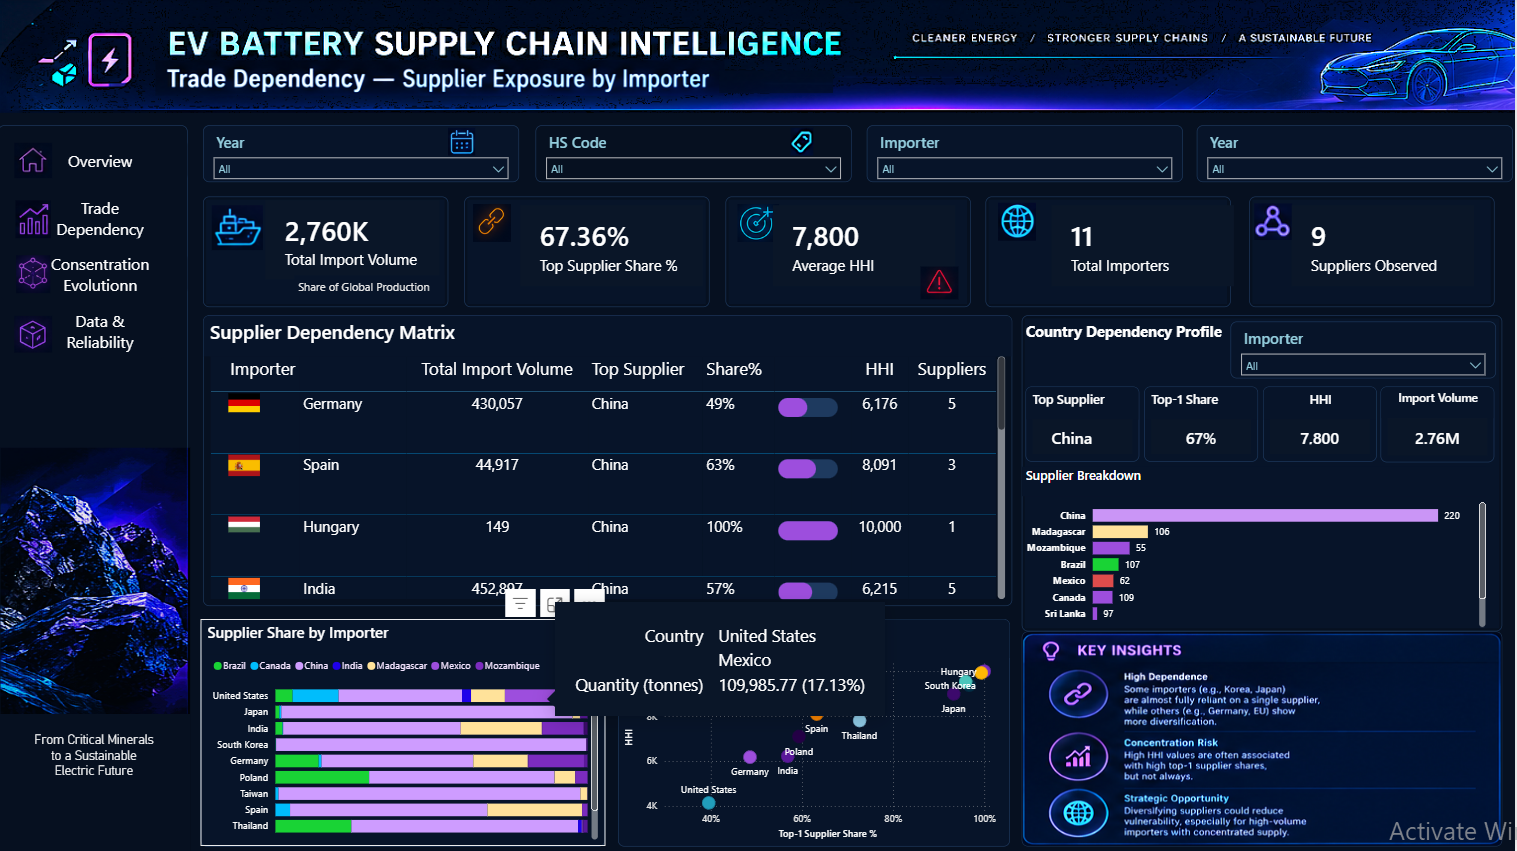

What the dashboard file says about the page in this screenshot:
{"tool":"powerbi","page":{"name":"Trade Dependency ","canvas":[1920,1080],"ordinal":1},"visuals":[{"type":"shape","box":[0,168,240,72],"z":0,"group":"g2"},{"type":"shape","box":[24,240,192,72],"z":0,"group":"g3"},{"type":"shape","box":[590,250,310,140],"z":0},{"type":"shape","box":[920,250,310,140],"z":0,"group":"g1"},{"type":"shape","box":[0,312,240,72],"z":0,"group":"g4"},{"type":"shape","box":[24,384,192,72],"z":0,"group":"g5"},{"type":"actionButton","box":[34,168,192,72],"z":1000,"group":"g2"},{"type":"actionButton","box":[51.2,240,153.6,72],"z":1000,"group":"g3"},{"type":"shape","box":[1250,250,310,140],"z":1000},{"type":"actionButton","box":[34,312,192,72],"z":1000,"group":"g4"},{"type":"actionButton","box":[51.2,384,153.6,72],"z":1000,"group":"g5"},{"type":"shape","box":[1584,250,310,140],"z":2000},{"type":"image","box":[929,260,64,48],"z":2000,"group":"g1"},{"type":"shape","box":[260,250,310,140],"z":3000},{"type":"image","box":[0,0,1920,144],"z":4000},{"type":"cardVisual","fields":{"Data":["ev v_supplier_share.Top Supplier Share %"]},"box":[656,256,240,112],"z":5000},{"type":"shape","title":"SIDEBAR","box":[0,160,240,910],"z":6000},{"type":"cardVisual","fields":{"Data":["ev v_country_dependency.Total Import Volume"]},"box":[333,250,230,110],"z":7000},{"type":"image","box":[1589,258,48,48],"z":8000},{"type":"textbox","box":[375,350,190,35],"z":9000},{"type":"image","box":[3,568,240,512],"z":10000},{"type":"image","box":[1257,258,64,48],"z":11000},{"type":"image","box":[593,260,64,48],"z":12000},{"type":"textbox","box":[0,904,243,176],"z":13000},{"type":"group","id":"g1","title":"KPI_3_Countries","box":[920,250,310,140],"z":14000},{"type":"slicer","title":"YEAR","fields":{"Values":["ev dim_date.year"]},"box":[260,160,400,72],"z":15000},{"type":"image","box":[570,163,35,35],"z":16000},{"type":"slicer","fields":{"Values":["ev v_country_dependency.hs_code"]},"box":[680,160,400,72],"z":17000},{"type":"image","box":[200,76,720,48],"z":18000},{"type":"image","box":[912,80,144,48],"z":19000},{"type":"slicer","title":"YEAR","fields":{"Values":["ev dim_country.country_name"]},"box":[1100,160,400,72],"z":20000},{"type":"slicer","title":"YEAR","fields":{"Values":["ev dim_date.year"]},"box":[1517,160,400,72],"z":21000},{"type":"image","box":[1000,163,35,35],"z":22000},{"type":"image","box":[270,260,65,60],"z":23000},{"type":"cardVisual","fields":{"Data":["ev v_country_dependency.Avg HHI"]},"box":[976,256,240,112],"z":24000},{"type":"image","box":[1168,336,48,48],"z":25000},{"type":"cardVisual","fields":{"Data":["ev v_country_dependency.Total Importers"]},"box":[1328,256,240,112],"z":26000},{"type":"cardVisual","fields":{"Data":["ev v_country_dependency.Suppliers Observed"]},"box":[1632,256,240,112],"z":27000},{"type":"tableEx","title":"     Supplier Dependency Matrix","fields":{"Values":["ev dim_country.flag_url","ev dim_country.country_name","ev v_country_dependency.Total Import Volume","ev v_supplier_share.Top Supplier","ev v_supplier_share.Top Supplier Share %","ev v_supplier_share.Bar SVG","ev v_country_dependency.Avg HHI","ev v_country_dependency.Avg Supplier Count"]},"box":[260,400,1024,368],"z":28000},{"type":"shape","box":[1296,400,608,400],"z":29000},{"type":"slicer","title":"YEAR","fields":{"Values":["ev dim_country.country_name"]},"box":[1560,408,336,72],"z":30000},{"type":"textbox","box":[1296,403,288,35],"z":31000},{"type":"cardVisual","title":"Top Supplier","fields":{"Data":["ev v_supplier_share.Top Supplier"]},"box":[1300,490,144,95],"z":32000},{"type":"cardVisual","title":"Top-1 Share","fields":{"Data":["ev v_supplier_share.Top Supplier Share %"]},"box":[1450,490,144,95],"z":33000},{"type":"group","id":"g2","title":"Group 1","box":[0,168,240,72],"z":34000,"group":"g6"},{"type":"cardVisual","title":"HHI","fields":{"Data":["ev v_country_dependency.Avg HHI"]},"box":[1600,490,144,95],"z":34000},{"type":"group","id":"g3","title":"Group 1","box":[24,240,192,72],"z":35000,"group":"g7"},{"type":"cardVisual","title":"Import Volume","fields":{"Data":["ev v_country_dependency.Total Import Volume"]},"box":[1750,490,144,96],"z":35000},{"type":"group","id":"g4","title":"Group 1","box":[0,312,240,72],"z":36000,"group":"g8"},{"type":"clusteredBarChart","title":"Supplier Breakdown","fields":{"Category":["ev v_supplier_share.exporter_name"],"Y":["ev v_country_dependency.Individual Supplier Share %"]},"box":[1296,592,592,208],"z":36000},{"type":"group","id":"g5","title":"Group 1","box":[24,384,192,72],"z":37000,"group":"g9"},{"type":"hundredPercentStackedBarChart","title":"Supplier Share by Importer","fields":{"Category":["ev dim_country.country_name"],"Series":["ev v_supplier_share.exporter_name"],"Y":["Sum(ev v_supplier_share.qty_t)"]},"box":[256,784,512,288],"z":37000},{"type":"image","box":[20,180,48,48],"z":37500,"group":"g6"},{"type":"image","box":[20,255,48,48],"z":37501,"group":"g7"},{"type":"image","box":[20,325,48,48],"z":37502,"group":"g8"},{"type":"image","box":[20,400,48,48],"z":37503,"group":"g9"},{"type":"scatterChart","title":"HHI vs Top-1 Share","fields":{"Category":["ev dim_country.country_name"],"X":["ev v_supplier_share.Top Supplier Share %"],"Y":["Avg(ev v_country_dependency.hhi)"]},"box":[784,784,496,288],"z":38000},{"type":"image","box":[1296,800,608,272],"z":39000},{"type":"group","id":"g6","title":"Group 2","box":[0,168,240,72],"z":39001},{"type":"group","id":"g7","title":"Group 3","box":[20,240,196,72],"z":39002},{"type":"group","id":"g8","title":"Group 4","box":[0,312,240,72],"z":39003},{"type":"group","id":"g9","title":"Group 5","box":[20,384,196,72],"z":39004}]}

Visuals, with their boxes on the page's 1920x1080 design canvas (x1, y1, x2, y2). These are canvas units, not pixel positions in the 1517x851 screenshot, which may show the page scaled, cropped or inside an application window:
shape: (0, 168, 240, 240)
shape: (24, 240, 216, 312)
shape: (590, 250, 900, 390)
shape: (920, 250, 1230, 390)
shape: (0, 312, 240, 384)
shape: (24, 384, 216, 456)
actionButton: (34, 168, 226, 240)
actionButton: (51, 240, 205, 312)
shape: (1250, 250, 1560, 390)
actionButton: (34, 312, 226, 384)
actionButton: (51, 384, 205, 456)
shape: (1584, 250, 1894, 390)
image: (929, 260, 993, 308)
shape: (260, 250, 570, 390)
image: (0, 0, 1920, 144)
cardVisual - ev v_supplier_share.Top Supplier Share %: (656, 256, 896, 368)
"SIDEBAR" shape: (0, 160, 240, 1070)
cardVisual - ev v_country_dependency.Total Import Volume: (333, 250, 563, 360)
image: (1589, 258, 1637, 306)
textbox: (375, 350, 565, 385)
image: (3, 568, 243, 1080)
image: (1257, 258, 1321, 306)
image: (593, 260, 657, 308)
textbox: (0, 904, 243, 1080)
"KPI_3_Countries" group: (920, 250, 1230, 390)
"YEAR" slicer: (260, 160, 660, 232)
image: (570, 163, 605, 198)
slicer - ev v_country_dependency.hs_code: (680, 160, 1080, 232)
image: (200, 76, 920, 124)
image: (912, 80, 1056, 128)
"YEAR" slicer: (1100, 160, 1500, 232)
"YEAR" slicer: (1517, 160, 1917, 232)
image: (1000, 163, 1035, 198)
image: (270, 260, 335, 320)
cardVisual - ev v_country_dependency.Avg HHI: (976, 256, 1216, 368)
image: (1168, 336, 1216, 384)
cardVisual - ev v_country_dependency.Total Importers: (1328, 256, 1568, 368)
cardVisual - ev v_country_dependency.Suppliers Observed: (1632, 256, 1872, 368)
"     Supplier Dependency Matrix" tableEx: (260, 400, 1284, 768)
shape: (1296, 400, 1904, 800)
"YEAR" slicer: (1560, 408, 1896, 480)
textbox: (1296, 403, 1584, 438)
"Top Supplier" cardVisual: (1300, 490, 1444, 585)
"Top-1 Share" cardVisual: (1450, 490, 1594, 585)
"Group 1" group: (0, 168, 240, 240)
"HHI" cardVisual: (1600, 490, 1744, 585)
"Group 1" group: (24, 240, 216, 312)
"Import Volume" cardVisual: (1750, 490, 1894, 586)
"Group 1" group: (0, 312, 240, 384)
"Supplier Breakdown" clusteredBarChart: (1296, 592, 1888, 800)
"Group 1" group: (24, 384, 216, 456)
"Supplier Share by Importer" hundredPercentStackedBarChart: (256, 784, 768, 1072)
image: (20, 180, 68, 228)
image: (20, 255, 68, 303)
image: (20, 325, 68, 373)
image: (20, 400, 68, 448)
"HHI vs Top-1 Share" scatterChart: (784, 784, 1280, 1072)
image: (1296, 800, 1904, 1072)
"Group 2" group: (0, 168, 240, 240)
"Group 3" group: (20, 240, 216, 312)
"Group 4" group: (0, 312, 240, 384)
"Group 5" group: (20, 384, 216, 456)
